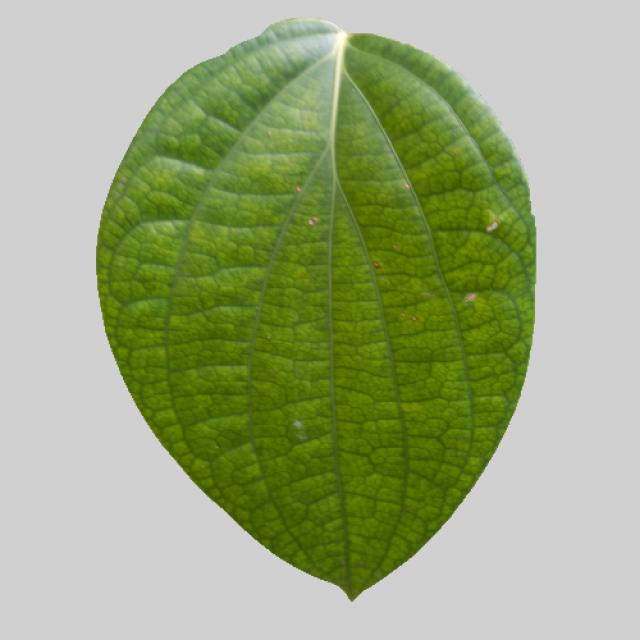healthy: (96, 12, 542, 609)
